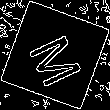M_NE: (22, 23, 88, 87)
